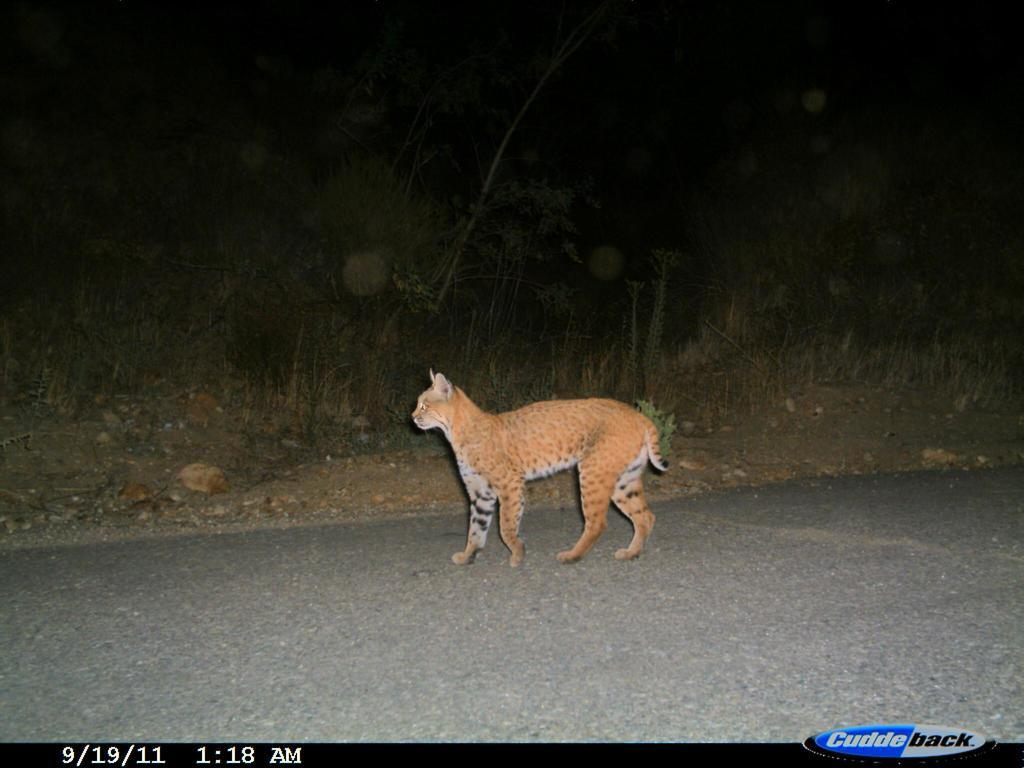bobcat: (405, 367, 678, 571)
